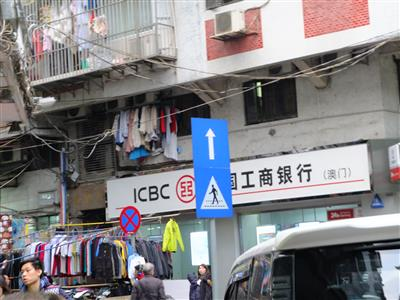oneway: (187, 115, 233, 168)
pedestrianCrossing: (191, 167, 235, 219)
